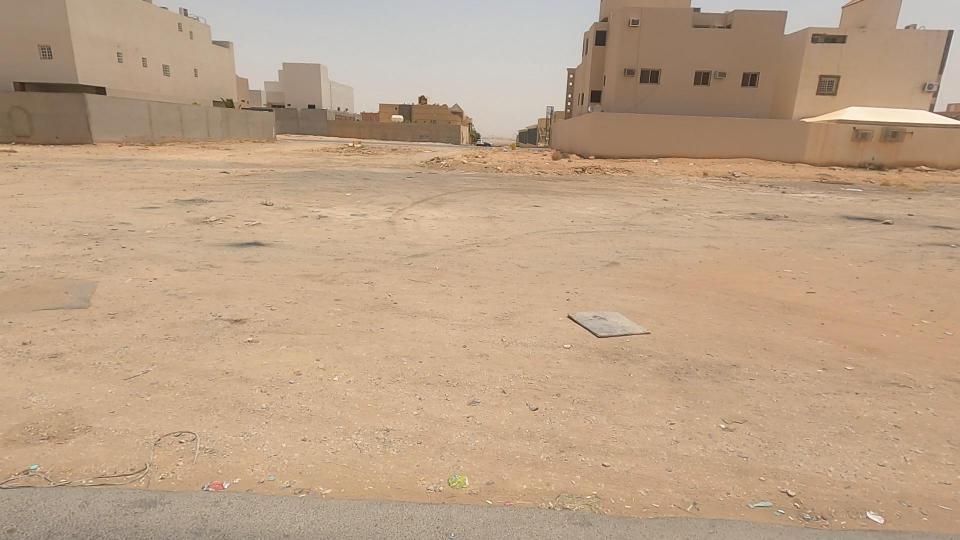GARBAGE: (488, 255, 715, 384)
